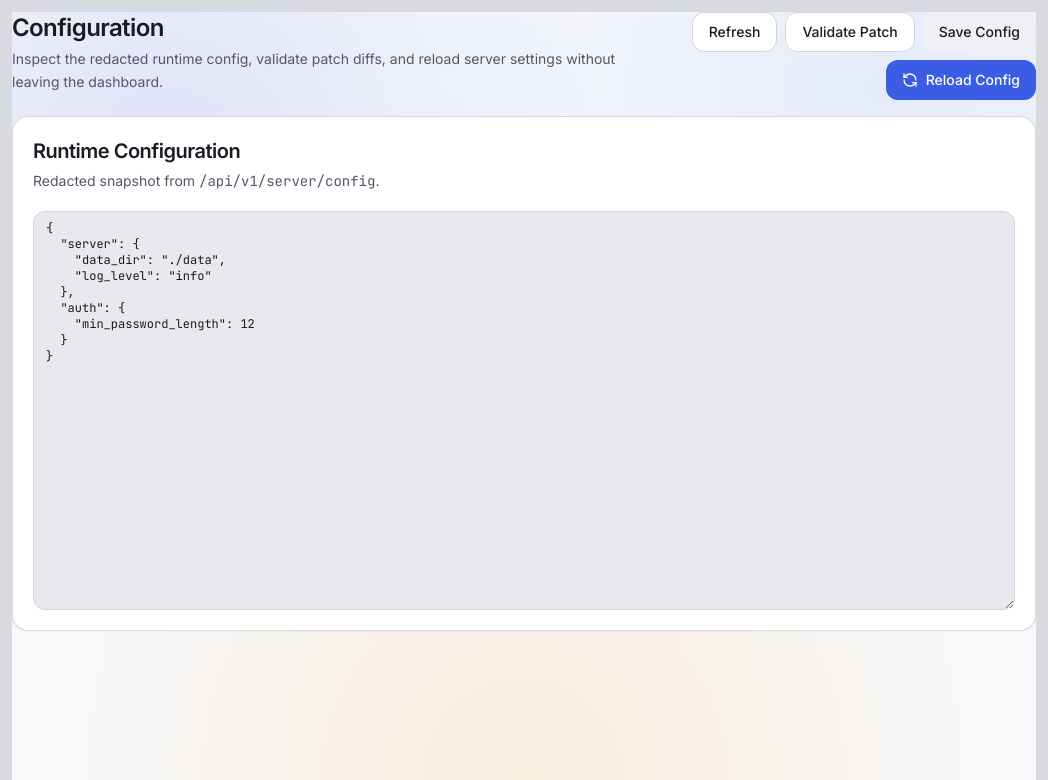
ConfigurationPage › reloads the server config and refreshes the snapshot
Expected: the text box is shown, [33,211,1015,610]
Click the button "Reload Config" at [961, 80], box [886,60,1036,100]
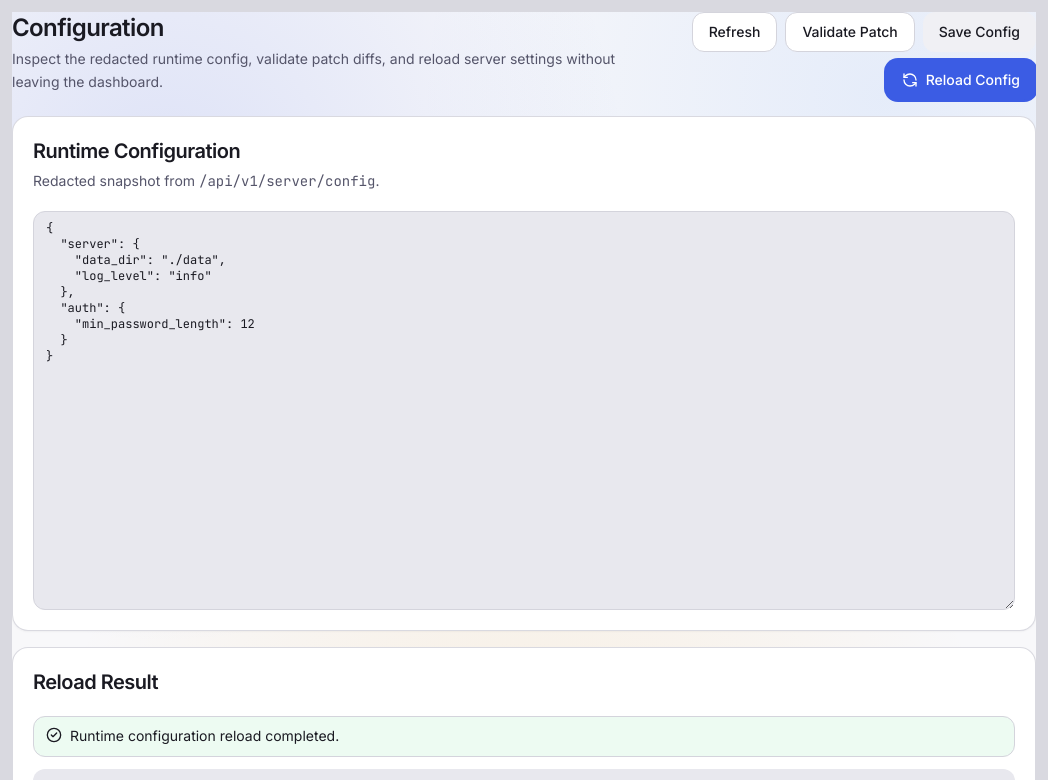
Expected: the heading "Reload Result" is shown, [33,670,158,694]
